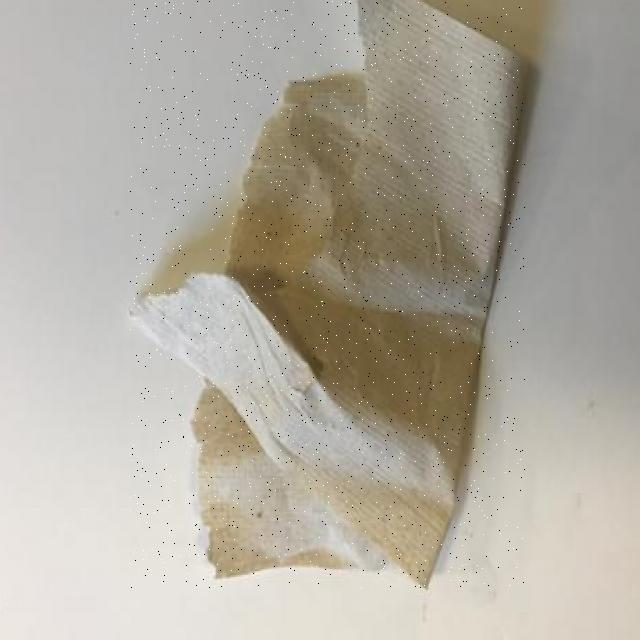paper: (131, 0, 525, 588)
